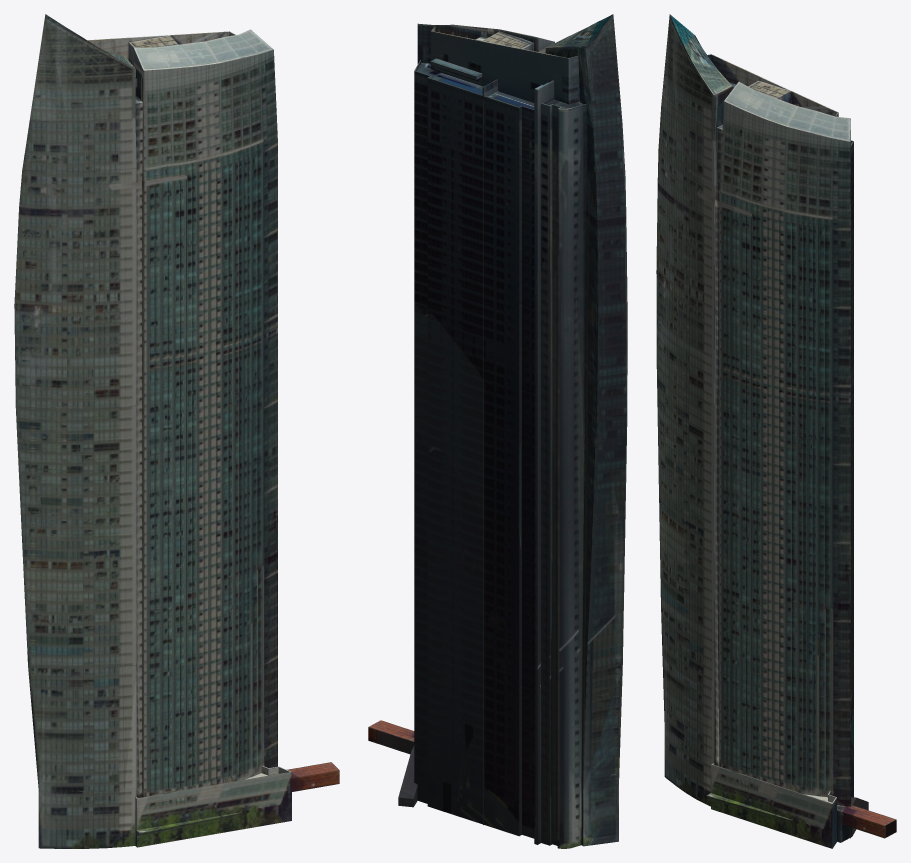
3 renders of one model, left to right at view 1: azimuth 30°, elevation 25°; view 2: azimuth 150°, elevation 25°; view 3: azimuth 330°, elevation 25°, orthographic. The views are drawn at different scales.
Visible parts, largest first — view 1: 8_0.glb; view 2: 8_0.glb; view 3: 8_0.glb.
Boxes of the visible parts, left/top/right/bottom form: 8_0.glb: left=14, top=14, right=339, bottom=848; 8_0.glb: left=368, top=14, right=627, bottom=848; 8_0.glb: left=656, top=14, right=896, bottom=848.
Bounding box in the file's own units: 87.97 × 242 × 31.09.
2 materials, 2 textured.
